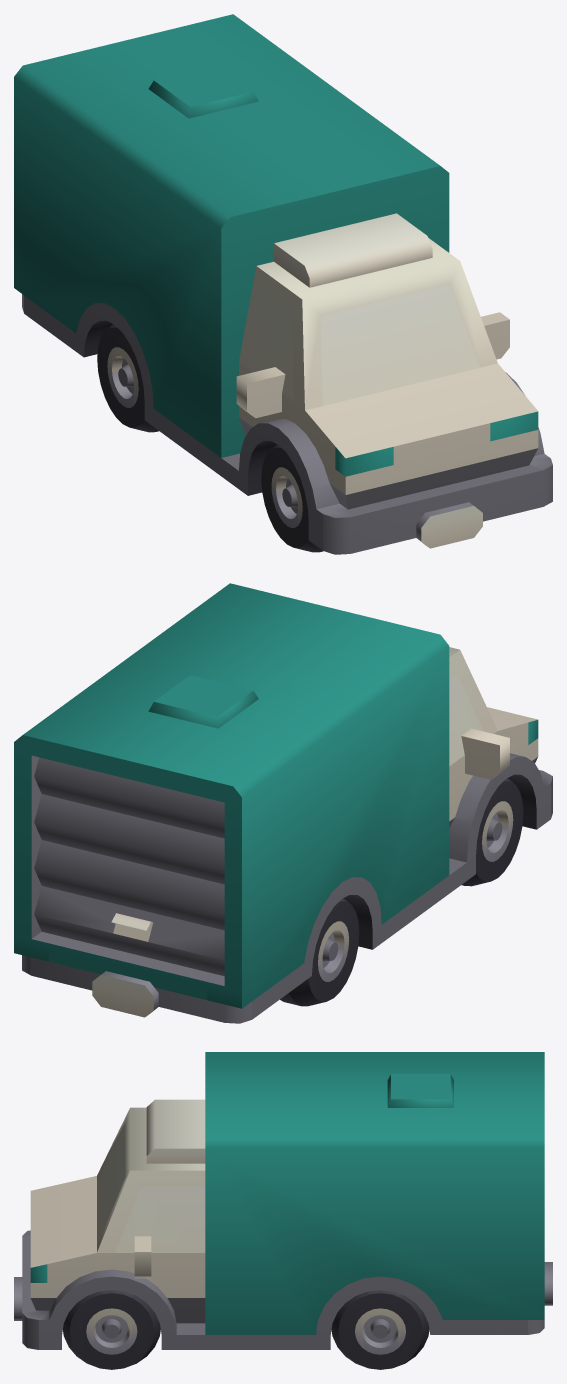
The model's file is lorry_teal.glb.
3 renders of one model, top to bottom at view 1: azimuth 30°, elevation 25°; view 2: azimuth 150°, elevation 25°; view 3: azimuth 270°, elevation 25°, orthographic. The views are drawn at different scales.
Parts seen in each view (by area): view 1: lorry_teal; view 2: lorry_teal; view 3: lorry_teal.
Boxes of the visible parts, box(x1,y1,x2,y2) form: lorry_teal: box(14, 14, 552, 554); lorry_teal: box(14, 583, 552, 1023); lorry_teal: box(14, 1052, 552, 1369).
Size of the model in its own units: 1.5 by 1.65 by 3.25.
